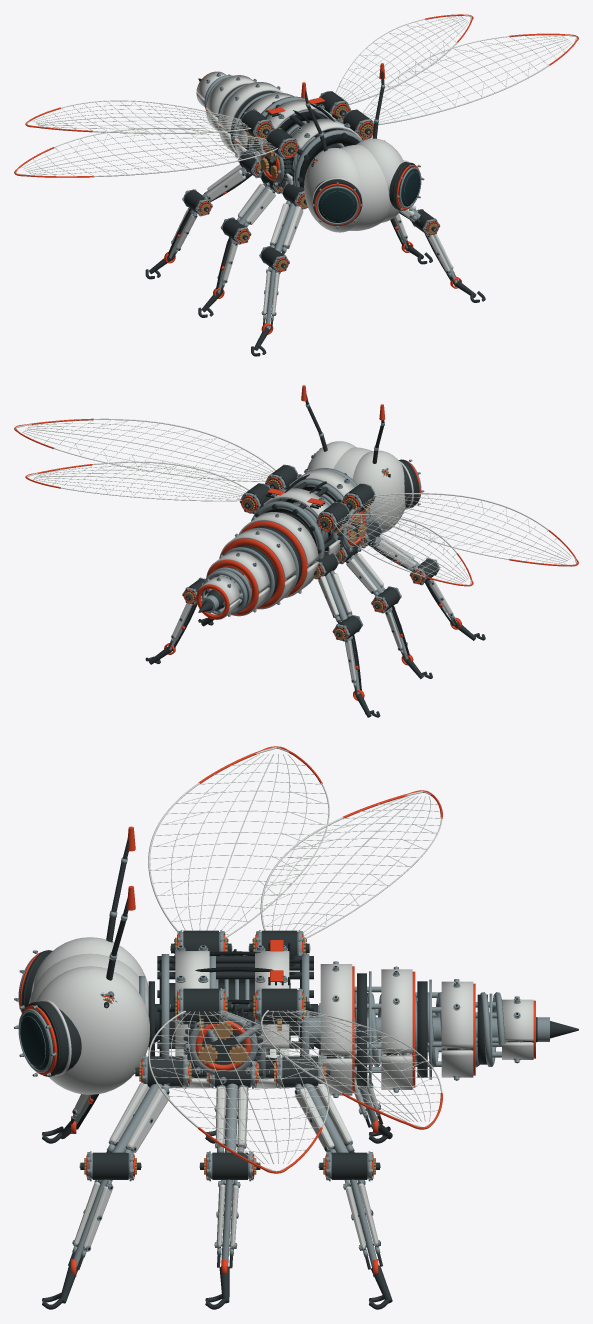
Rendered from mellis-hb7.glb.
3 renders of one model, top to bottom at view 1: azimuth 30°, elevation 25°; view 2: azimuth 150°, elevation 25°; view 3: azimuth 270°, elevation 25°, orthographic. The views are drawn at different scales.
Parts seen in each view (by area): view 1: HB_wing_L0, HB_wing_R0, HB_wing_L1, HB_wing_R1, HB_body, HB_forehead_shell, HB_optic_shield_-1, HB_optic_L, HB_leg_L0, HB_thorax_cover_-1, HB_optic_R, HB_tibia_L0 (+10 smaller); view 2: HB_wing_R0, HB_wing_L0, HB_wing_R1, HB_wing_L1, HB_optic_shield_-1, HB_body, HB_leg_L2, HB_thorax_cover_-1, HB_leg_L0, HB_tibia_L2, HB_abdomen_shell_0_-1, HB_tibia_L1 (+17 smaller); view 3: HB_optic_shield_1, HB_wing_R0, HB_wing_L0, HB_wing_R1, HB_wing_L1, HB_body, HB_leg_R0, HB_optic_R, HB_leg_R2, HB_drive_R, HB_thorax_cover_-1, HB_tibia_R2 (+23 smaller).
Part boxes in pixels (left/top/right/bottom): HB_wing_L0: left=14, top=128, right=299, bottom=177; HB_wing_R0: left=342, top=33, right=578, bottom=139; HB_wing_L1: left=25, top=100, right=274, bottom=140; HB_wing_R1: left=317, top=14, right=473, bottom=119; HB_body: left=248, top=96, right=362, bottom=187; HB_forehead_shell: left=340, top=144, right=389, bottom=230; HB_optic_shield_-1: left=304, top=148, right=361, bottom=232; HB_optic_L: left=312, top=177, right=362, bottom=228; HB_leg_L0: left=270, top=181, right=308, bottom=254; HB_thorax_cover_-1: left=265, top=99, right=361, bottom=149; HB_optic_R: left=388, top=160, right=424, bottom=210; HB_tibia_L0: left=259, top=245, right=289, bottom=329; HB_wing_R0: left=14, top=418, right=298, bottom=489; HB_wing_L0: left=341, top=483, right=578, bottom=566; HB_wing_R1: left=25, top=461, right=271, bottom=514; HB_wing_L1: left=316, top=501, right=473, bottom=586; HB_optic_shield_-1: left=352, top=450, right=405, bottom=533; HB_body: left=251, top=468, right=370, bottom=558; HB_leg_L2: left=312, top=551, right=352, bottom=623; HB_thorax_cover_-1: left=263, top=469, right=354, bottom=516; HB_leg_L0: left=360, top=520, right=420, bottom=571; HB_tibia_L2: left=332, top=614, right=363, bottom=695; HB_abdomen_shell_0_-1: left=238, top=512, right=318, bottom=593; HB_tibia_L1: left=371, top=586, right=409, bottom=661; HB_optic_shield_1: left=36, top=966, right=149, bottom=1094; HB_wing_R0: left=148, top=988, right=329, bottom=1173; HB_wing_L0: left=148, top=746, right=329, bottom=955; HB_wing_R1: left=248, top=988, right=442, bottom=1129; HB_wing_L1: left=248, top=790, right=442, bottom=955; HB_body: left=157, top=951, right=313, bottom=1078; HB_leg_R0: left=106, top=1055, right=196, bottom=1153; HB_optic_R: left=14, top=999, right=81, bottom=1076; HB_leg_R2: left=269, top=1055, right=354, bottom=1153; HB_drive_R: left=183, top=1004, right=262, bottom=1083; HB_thorax_cover_-1: left=175, top=940, right=290, bottom=1048; HB_tibia_R2: left=318, top=1151, right=382, bottom=1269.
Bounding box in the file's own units: 7.34 × 2.93 × 4.11.
